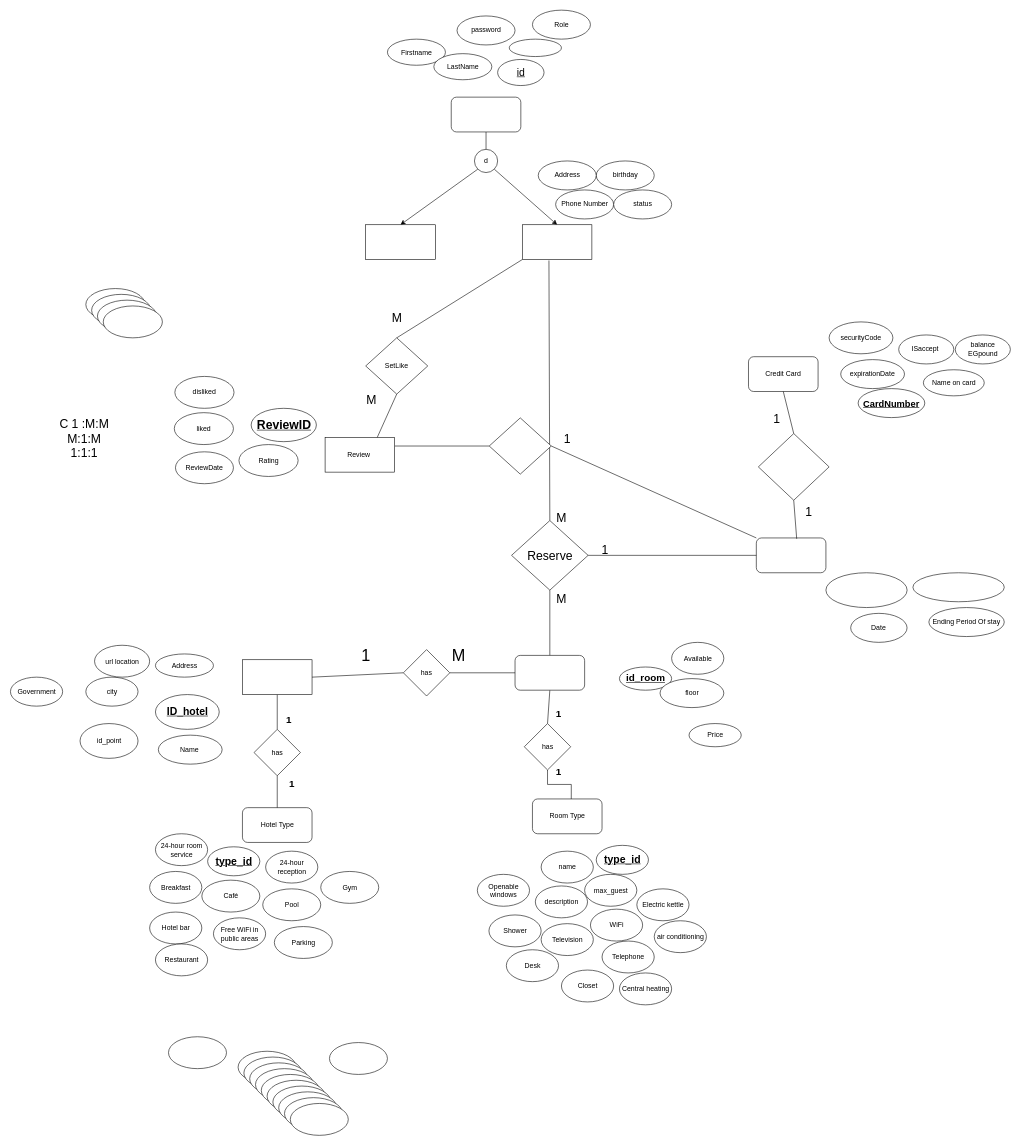
Image size: 1020x1146. Some labels were removed from this diagram. Each missing label, with the centre of its shape:
Admin: (400,242)
BeginningPeriod Of stay: (958,587)
Customer: (557,242)
email: (535,48)
Hotel: (277,677)
id_ Reservation: (866,590)
Reservation: (791,555)
Room: (549,672)
SetComment: (520,445)
transation: (793,466)
User: (486,114)
